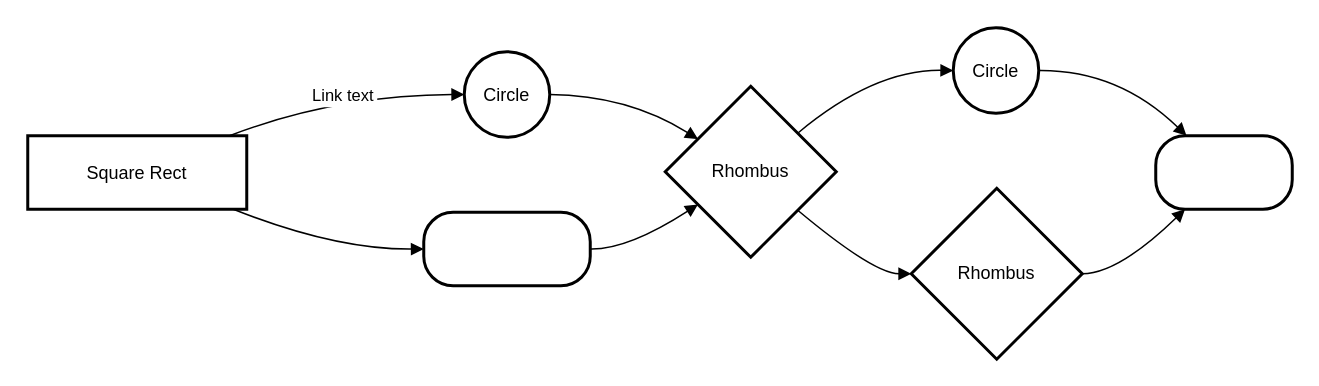
This 1319x386 diagram has some shape labels left out. Each missing label, with the box of its shape:
Hexagon: (1154, 134, 1293, 210)
Round Rect: (422, 210, 591, 286)
